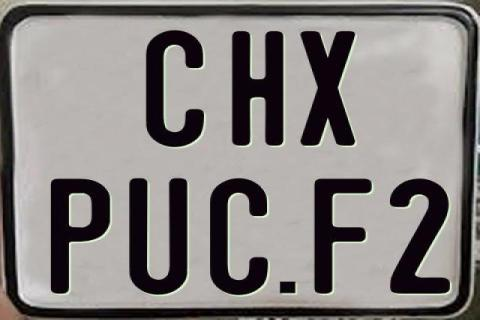0: (389, 177, 455, 296)
C: (145, 29, 209, 149), (208, 176, 269, 293)
F: (311, 177, 369, 292)
H: (230, 29, 287, 145)
P: (50, 177, 109, 295)
U: (128, 178, 189, 296)
X: (300, 31, 358, 146)
